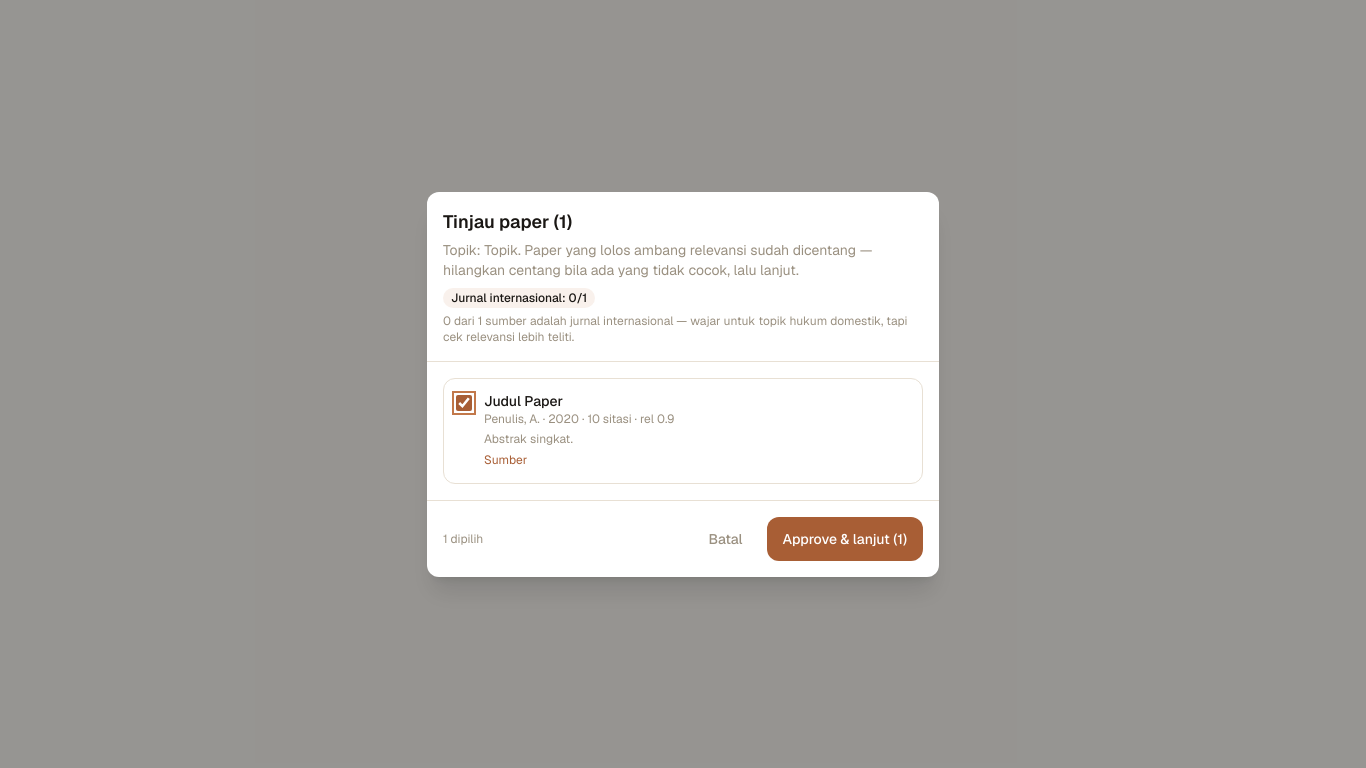
PaperReview › blocks synthesis with a message when nothing is checked, never auto-approving nothing
// Uncheck the only paper, then try to proceed.
Step 1. Click the checkbox labelled "Judul Paper" → coordinates (464, 402), box [456,394,472,410]
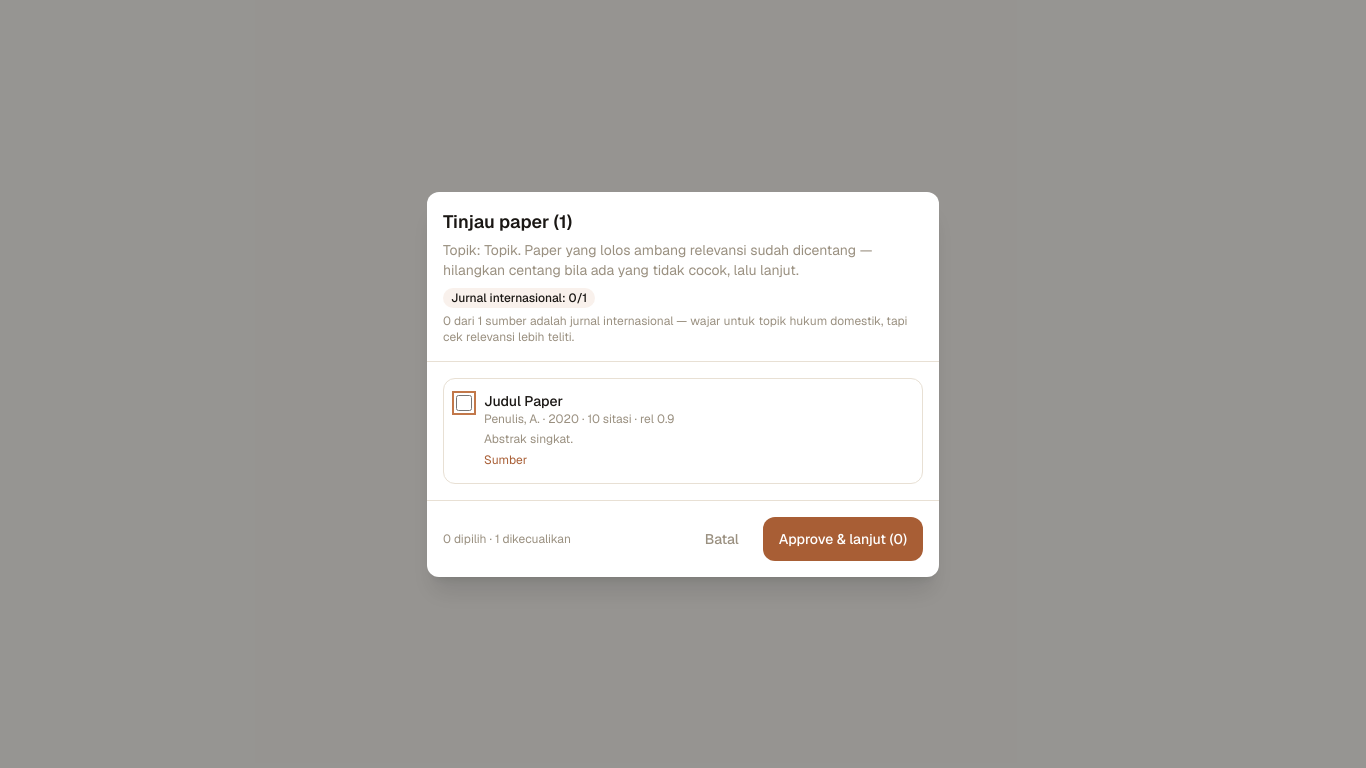
Step 2. Click the button "Approve & lanjut (0)" → coordinates (843, 538), box [763,516,923,560]
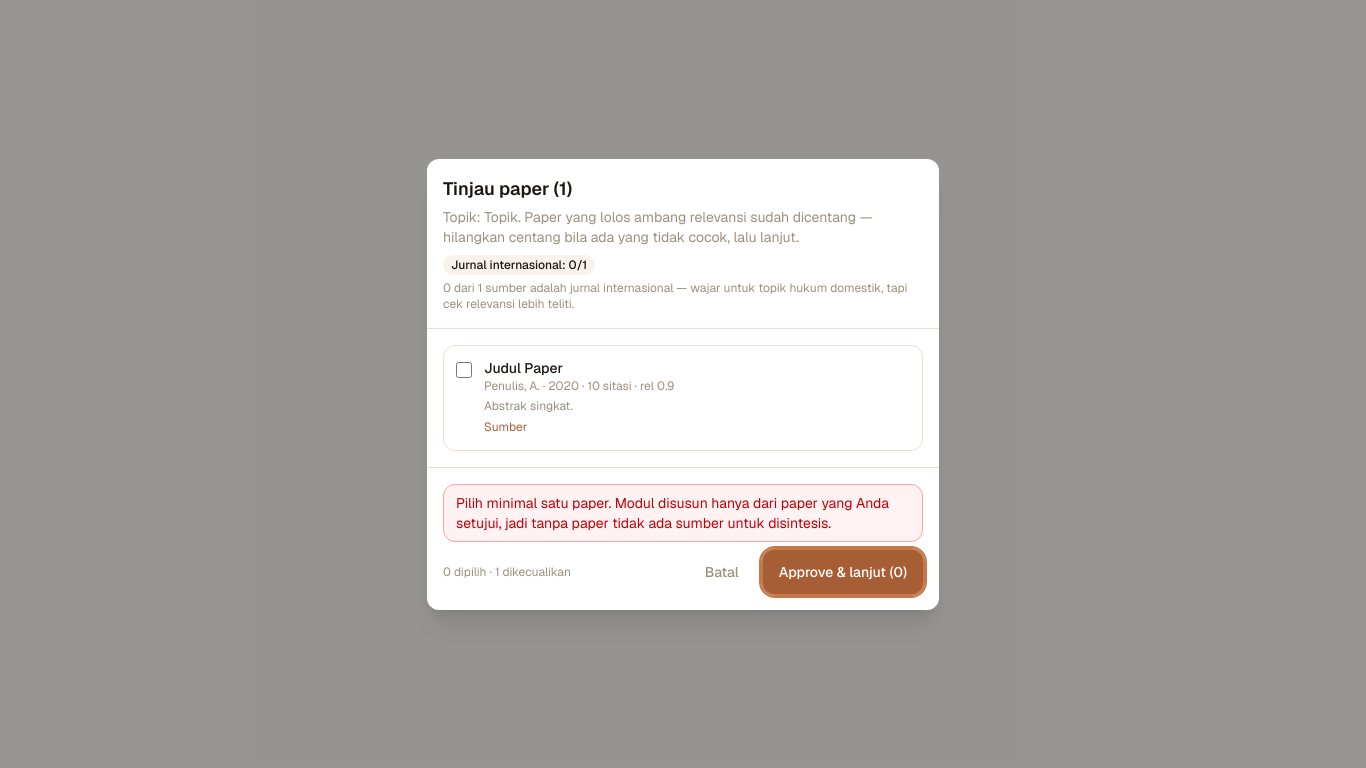
Expected: the message shows "minimal satu paper", [456,494,889,532]
